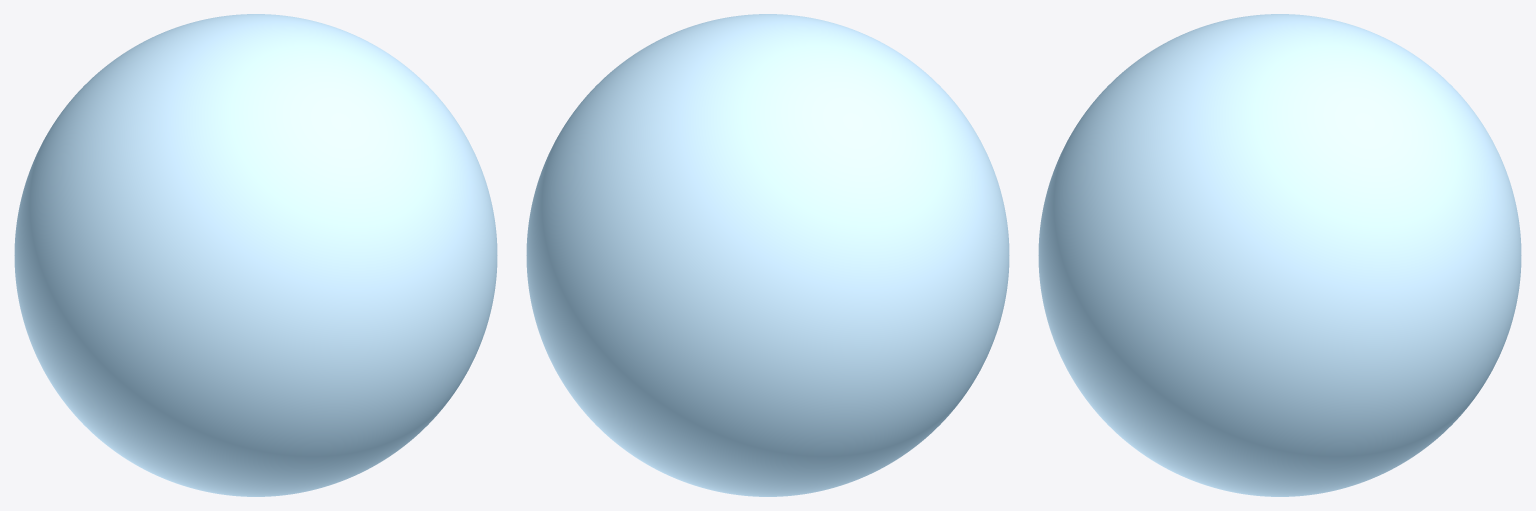
File: monkey_ball.gltf
3 views of the same model, side by side, from view 1: azimuth 30°, elevation 25°; view 2: azimuth 150°, elevation 25°; view 3: azimuth 270°, elevation 25° (orthographic).
Parts seen in each view (by area): view 1: SphereShell; view 2: SphereShell; view 3: SphereShell.
Part boxes in pixels (box(x1,y1,x2,y2)): SphereShell: box(14, 14, 497, 496); SphereShell: box(526, 14, 1009, 496); SphereShell: box(1038, 14, 1521, 496).
Bounding box in the file's own units: 2.16 × 2.16 × 2.16.
